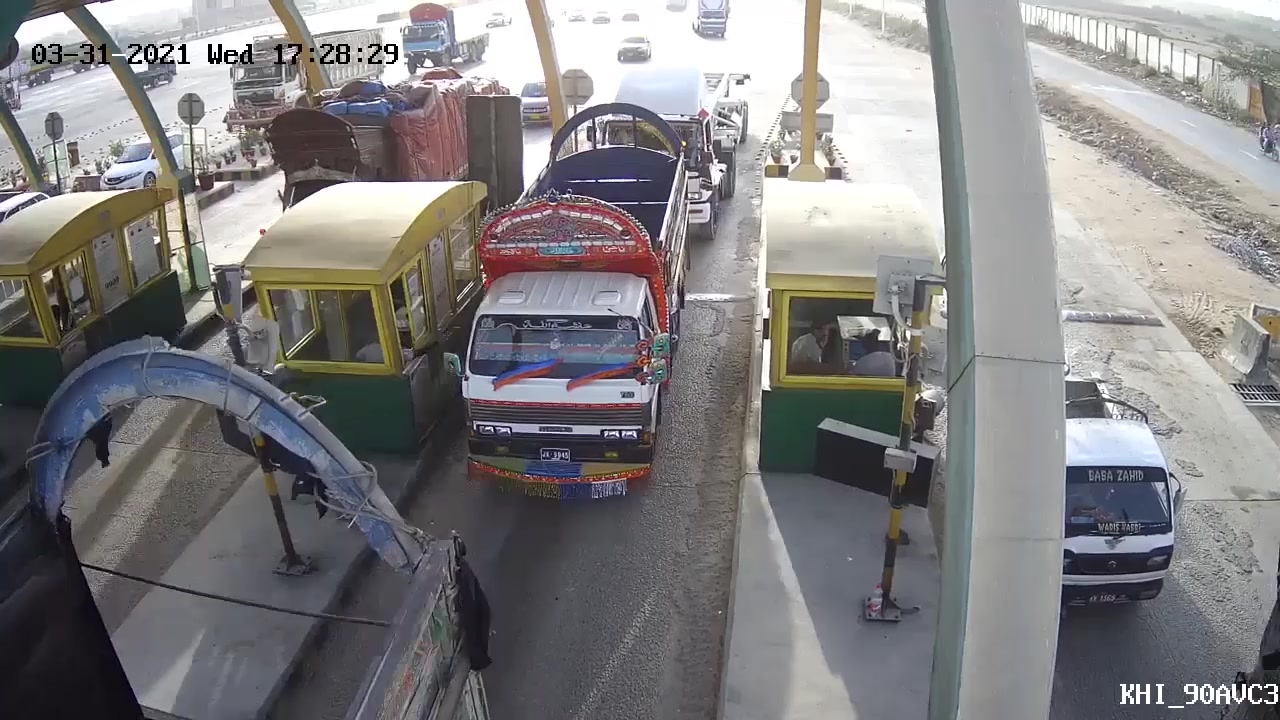F3: (455, 124, 686, 512)
